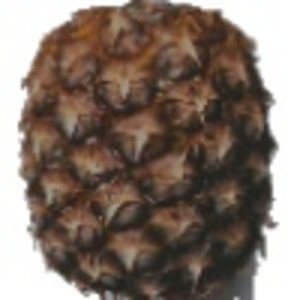abacaxi: (10, 2, 277, 296)
